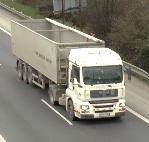truck: (9, 13, 125, 128)
